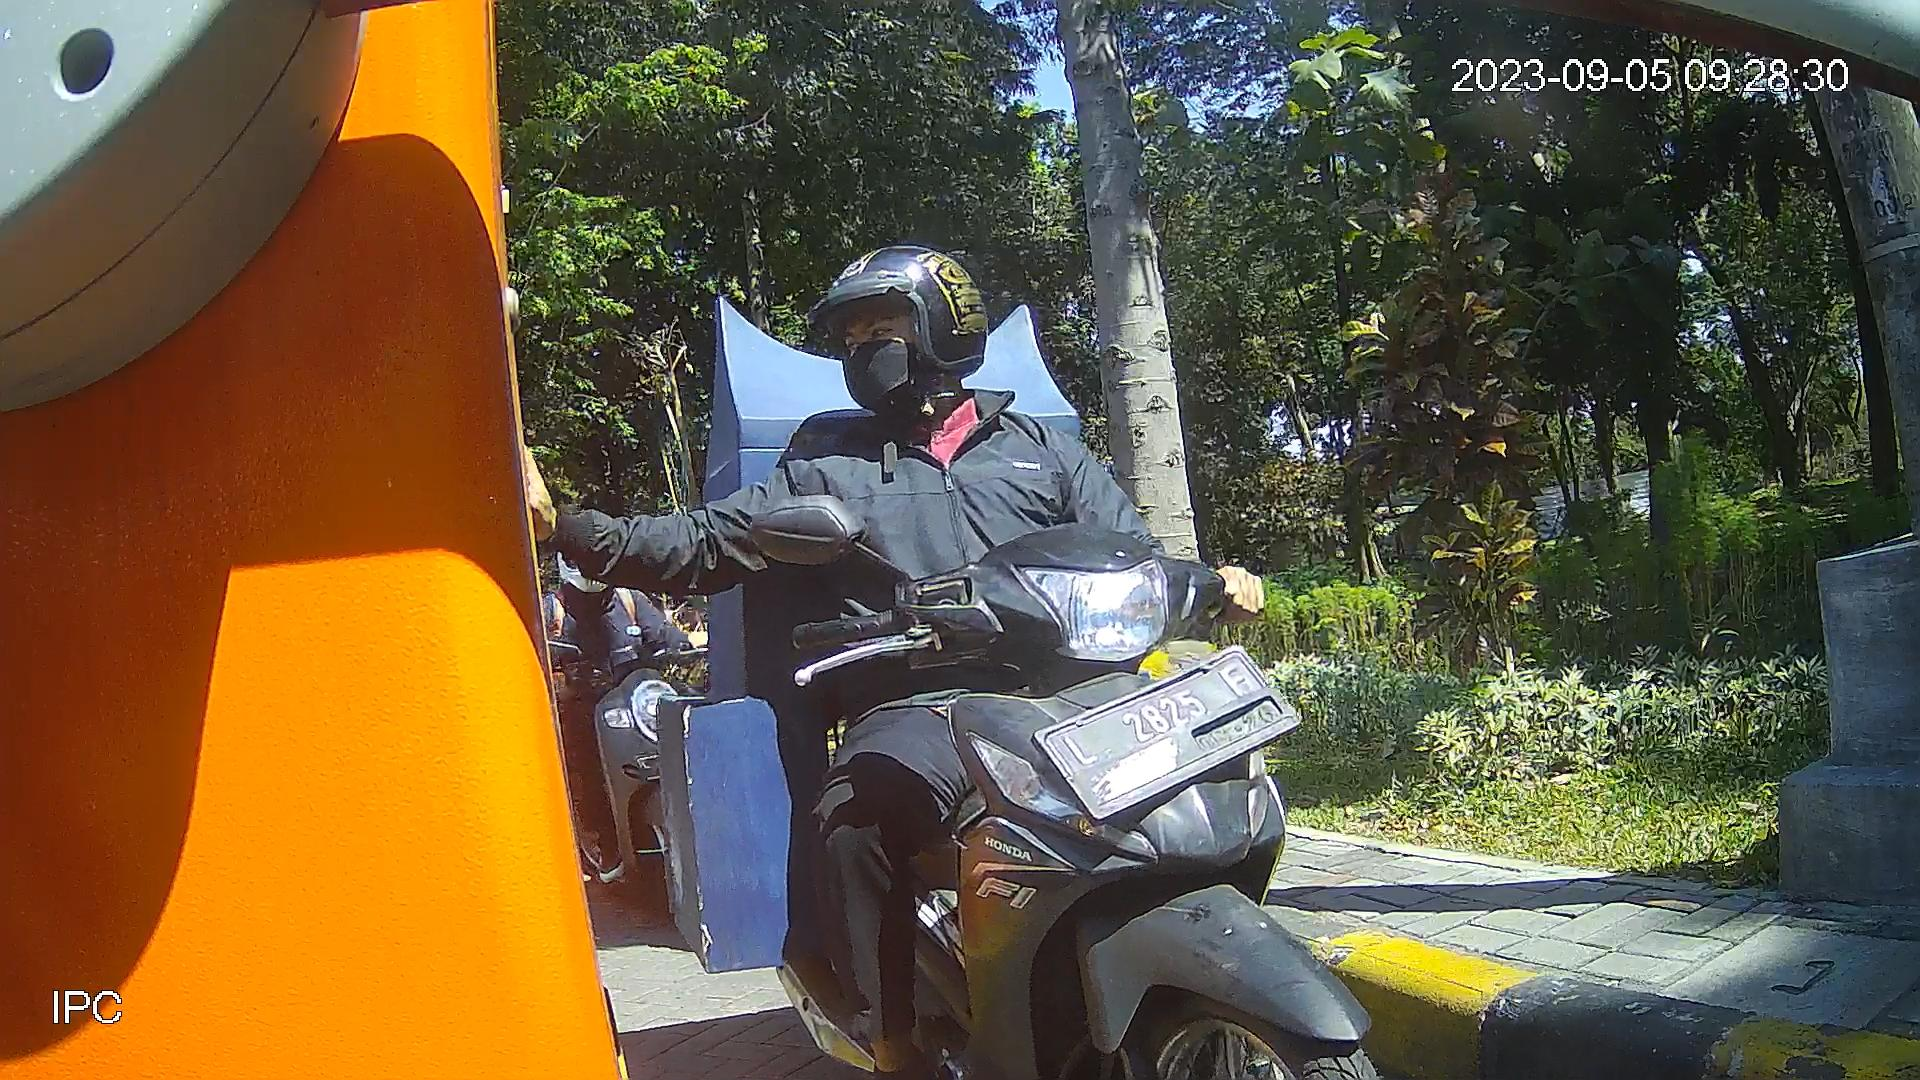plat: (1026, 642, 1307, 827)
